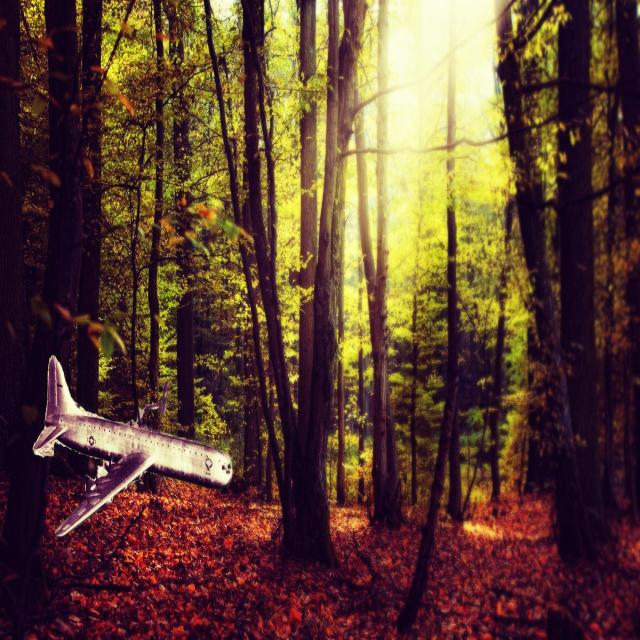airplane: (32, 353, 233, 539)
